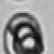correct: (0, 8, 46, 54)
